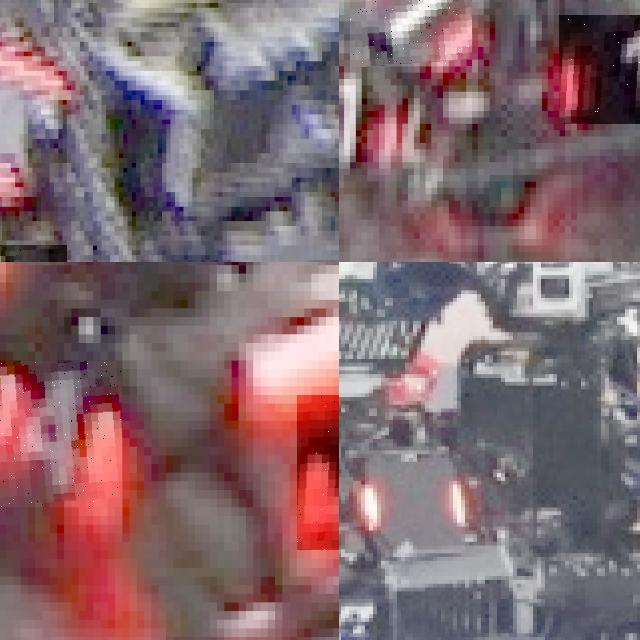R1: (339, 40, 408, 168), (559, 15, 640, 124), (350, 0, 472, 66)
R4: (0, 360, 122, 507), (297, 394, 339, 550)
